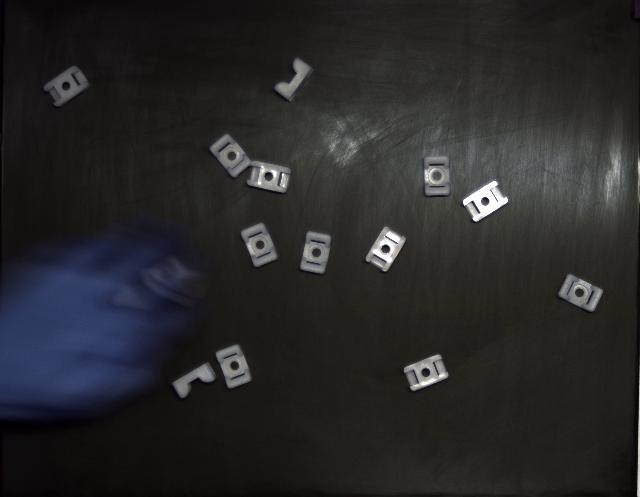first_side: (210, 134, 251, 178), (241, 224, 278, 268), (558, 275, 602, 312), (216, 345, 252, 389), (300, 231, 331, 274), (424, 156, 450, 196)
second_side: (462, 181, 508, 222), (365, 228, 405, 272), (404, 355, 449, 391)
third_side: (274, 58, 312, 101), (172, 362, 216, 399)
